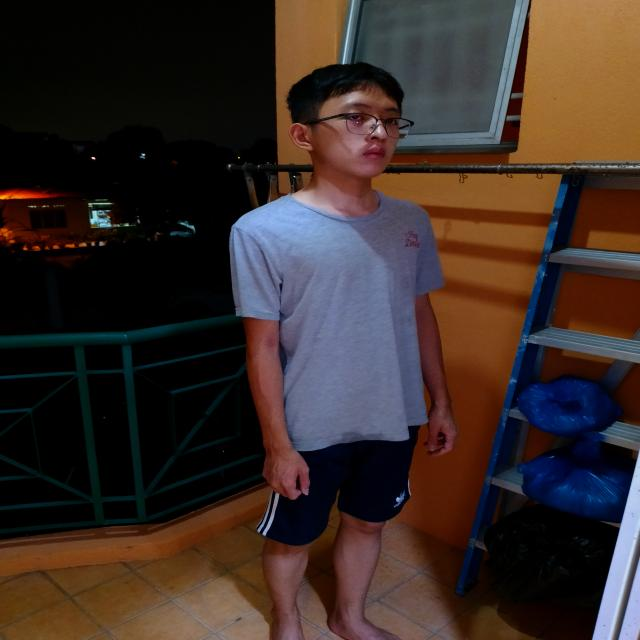person_without_labcoat: (231, 63, 456, 639)
